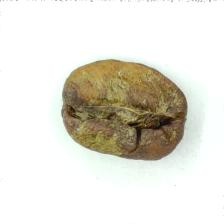NG: (68, 64, 177, 155)
